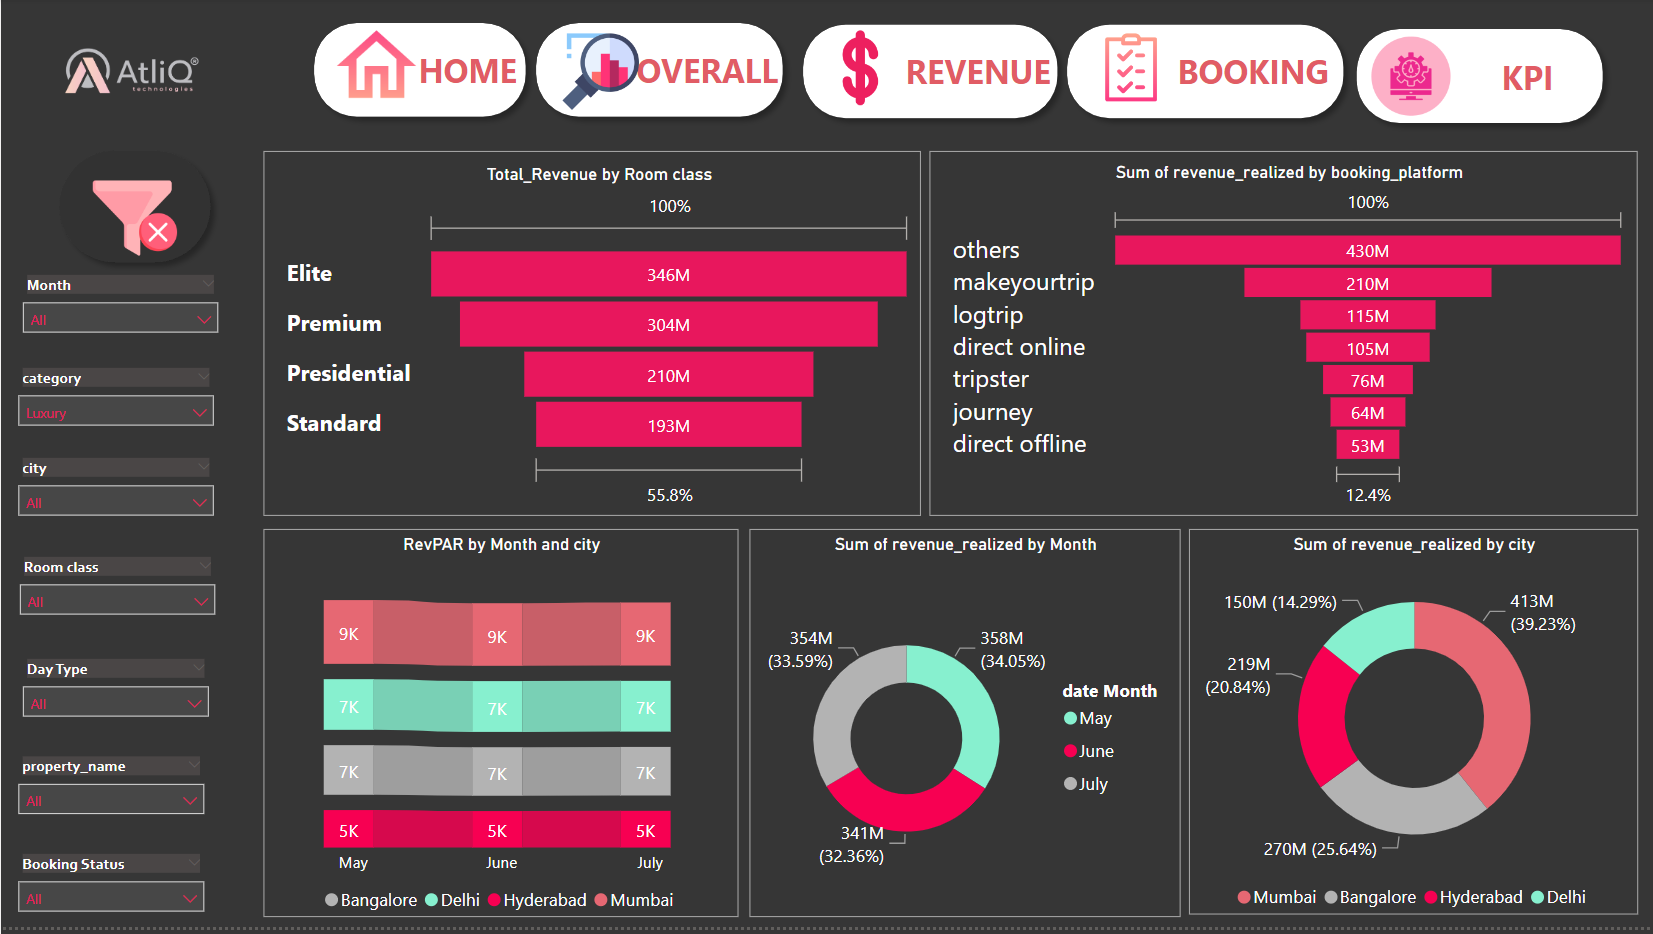

This screenshot's page, from the dashboard's own definition file:
{"tool":"powerbi","page":{"name":"REVENUE","canvas":[1280,720],"ordinal":2},"visuals":[{"type":"shape","box":[233.8,10.1,181.9,90.5],"z":0,"group":"g4"},{"type":"group","id":"g1","title":"Group 1","box":[406.1,10.1,209.1,90.5],"z":0,"group":"g5"},{"type":"shape","title":"OVERALL","box":[406.1,10.1,209.1,90.5],"z":0,"group":"g1"},{"type":"shape","box":[612.4,12.1,215.1,90.5],"z":0,"group":"g9"},{"type":"shape","box":[817.1,12.1,232.1,90.5],"z":0,"group":"g6"},{"type":"group","id":"g2","title":"Group 1","box":[1041.1,15.1,208.7,90.8],"z":0,"group":"g8"},{"type":"shape","box":[1041.1,15.1,208.7,90.8],"z":0,"group":"g2"},{"type":"shape","box":[36.3,108.9,135.2,104.5],"z":0,"group":"g10"},{"type":"ribbonChart","fields":{"Category":["dim_date.date.Variation.Date Hierarchy.Month"],"Y":["key_measures.RevPAR"],"Series":["dim_hotels.city"]},"box":[203.7,411.4,368.1,300.5],"z":0},{"type":"image","box":[391.6,21.2,146.6,69.4],"z":1000,"group":"g5"},{"type":"image","box":[1056.1,23.2,71.6,74.6],"z":1000,"group":"g8"},{"type":"donutChart","fields":{"Category":["dim_date.date.Variation.Date Hierarchy.Month"],"Y":["Sum(fact_bookings.revenue_realized)"]},"box":[579.8,411.4,333.8,300.5],"z":1000},{"type":"donutChart","fields":{"Y":["Sum(fact_bookings.revenue_realized)"],"Category":["dim_hotels.city"]},"box":[920.7,411.4,347.9,298.5],"z":2000},{"type":"funnel","fields":{"Category":["fact_bookings.booking_platform"],"Y":["Sum(fact_bookings.revenue_realized)"]},"box":[720,119,548.6,282.4],"z":3000},{"type":"funnel","fields":{"Category":["dim_rooms.Room class"],"Y":["key_measures.Total_Revenue"]},"box":[203.7,119,509.2,282.4],"z":4000},{"type":"group","id":"g3","title":"Group 10","box":[4,108.9,175.5,610.1],"z":5000},{"type":"group","id":"g4","title":"Group 1","box":[233.8,10.1,181.9,90.5],"z":6000},{"type":"slicer","fields":{"Values":["dim_hotels.city"]},"box":[4,351.2,171.2,60.3],"z":6000,"group":"g3"},{"type":"group","id":"g5","title":"Group 2","box":[391.6,10.1,223.6,90.5],"z":7000},{"type":"slicer","fields":{"Values":["dim_date.day type"]},"box":[7.7,506,163.7,61.3],"z":7000,"group":"g3"},{"type":"group","id":"g6","title":"Group 1","box":[792.9,12.1,256.1,90.8],"z":8000},{"type":"slicer","fields":{"Values":["dim_rooms.room_class"]},"box":[5.2,427.6,171.2,65.3],"z":8000,"group":"g3"},{"type":"group","id":"g7","title":"Group 9","box":[612.4,12.1,215.8,90.8],"z":9000},{"type":"slicer","fields":{"Values":["dim_hotels.property_name"]},"box":[4,582.4,163.7,60.3],"z":9000,"group":"g3"},{"type":"group","id":"g8","title":"Group 11","box":[1041.1,15.1,208.7,90.8],"z":10000},{"type":"slicer","fields":{"Values":["fact_bookings.booking_status"]},"box":[4,657.8,163.7,61.3],"z":10000,"group":"g3"},{"type":"image","box":[36.3,17.1,129.1,80.7],"z":11000},{"type":"image","box":[61.1,132,86.8,75.4],"z":12000,"group":"g10"},{"type":"group","id":"g9","title":"Group 1","box":[612.4,12.1,215.1,90.5],"z":13000,"group":"g7"},{"type":"slicer","fields":{"Values":["dim_hotels.category"]},"box":[4,280.8,171.2,60.3],"z":20000,"group":"g3"},{"type":"slicer","fields":{"Values":["dim_date.date.Variation.Date Hierarchy.Month"]},"box":[7.7,208.4,171.2,60.3],"z":21000,"group":"g3"},{"type":"group","id":"g10","title":"Group 8","box":[36.3,108.9,135.2,104.5],"z":22000,"group":"g3"},{"type":"image","box":[623.8,20.1,83.4,68.4],"z":24001,"group":"g7"},{"type":"image","box":[792.9,22.2,166.4,63.3],"z":25001,"group":"g6"},{"type":"image","title":"HOME","box":[236.1,10.1,109.8,84.4],"z":26000,"group":"g4"}]}

Visuals, with their boxes in screenshot pixels (x1, y1, x2, y2), scaled from the page's 1280x720 canvas onto the 1653x934 screenshot:
shape: l=302, t=13, r=537, b=131
"Group 1" group: l=524, t=13, r=794, b=131
"OVERALL" shape: l=524, t=13, r=794, b=131
shape: l=791, t=16, r=1069, b=133
shape: l=1055, t=16, r=1355, b=133
"Group 1" group: l=1344, t=20, r=1614, b=137
shape: l=1344, t=20, r=1614, b=137
shape: l=47, t=141, r=221, b=277
ribbonChart - dim_date.date.Variation.Date Hierarchy.Month x key_measures.RevPAR: l=263, t=534, r=738, b=923
image: l=506, t=28, r=695, b=118
image: l=1364, t=30, r=1456, b=127
donutChart - dim_date.date.Variation.Date Hierarchy.Month x Sum(fact_bookings.revenue_realized): l=749, t=534, r=1180, b=923
donutChart - Sum(fact_bookings.revenue_realized) x dim_hotels.city: l=1189, t=534, r=1638, b=921
funnel - fact_bookings.booking_platform x Sum(fact_bookings.revenue_realized): l=930, t=154, r=1638, b=521
funnel - dim_rooms.Room class x key_measures.Total_Revenue: l=263, t=154, r=921, b=521
"Group 10" group: l=5, t=141, r=232, b=933
"Group 1" group: l=302, t=13, r=537, b=131
slicer - dim_hotels.city: l=5, t=456, r=226, b=534
"Group 2" group: l=506, t=13, r=794, b=131
slicer - dim_date.day type: l=10, t=656, r=221, b=736
"Group 1" group: l=1024, t=16, r=1355, b=133
slicer - dim_rooms.room_class: l=7, t=555, r=228, b=639
"Group 9" group: l=791, t=16, r=1070, b=133
slicer - dim_hotels.property_name: l=5, t=756, r=217, b=834
"Group 11" group: l=1344, t=20, r=1614, b=137
slicer - fact_bookings.booking_status: l=5, t=853, r=217, b=933
image: l=47, t=22, r=214, b=127
image: l=79, t=171, r=191, b=269
"Group 1" group: l=791, t=16, r=1069, b=133
slicer - dim_hotels.category: l=5, t=364, r=226, b=442
slicer - dim_date.date.Variation.Date Hierarchy.Month: l=10, t=270, r=231, b=349
"Group 8" group: l=47, t=141, r=221, b=277
image: l=806, t=26, r=913, b=115
image: l=1024, t=29, r=1239, b=111
"HOME" image: l=305, t=13, r=447, b=123
